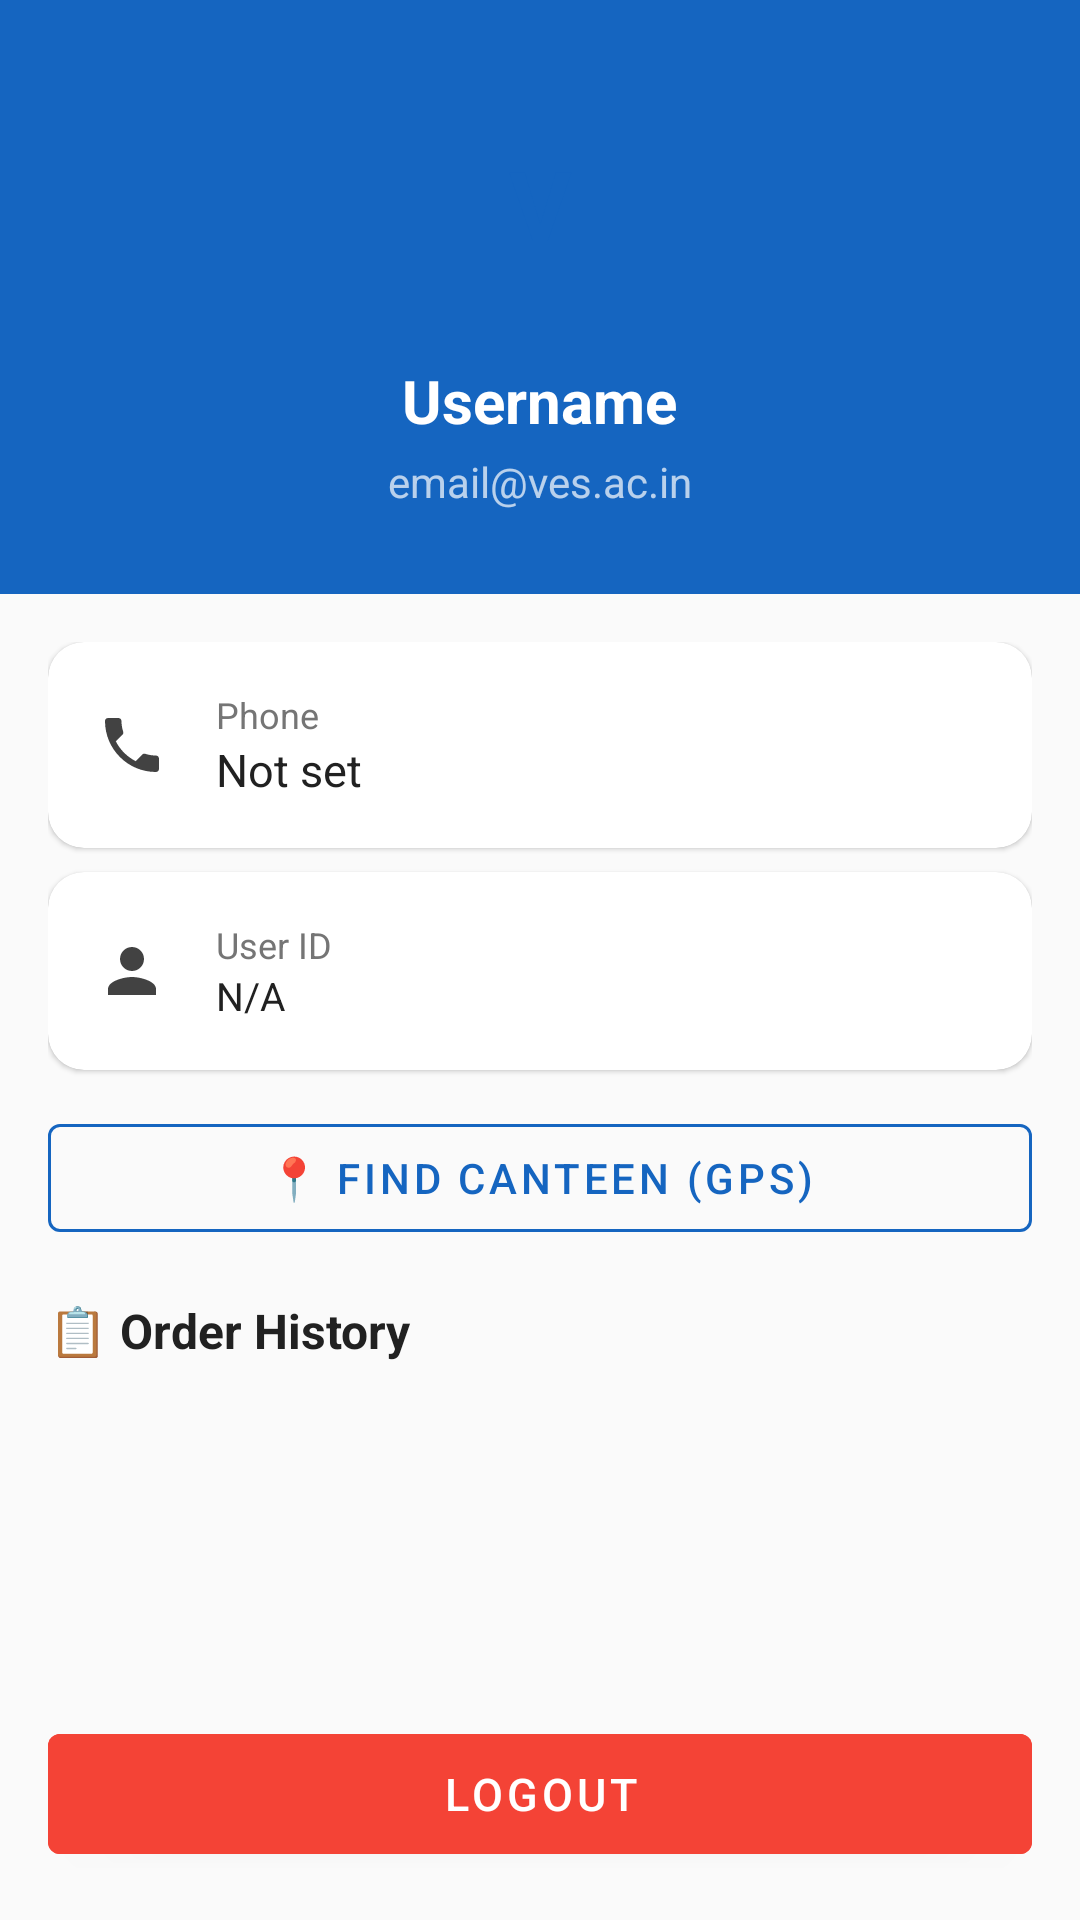

Named icons in this screenshot (1080x1920) and their bounding boxes, (x1, y1, x2, y2):
UID: (108, 947, 156, 995)
